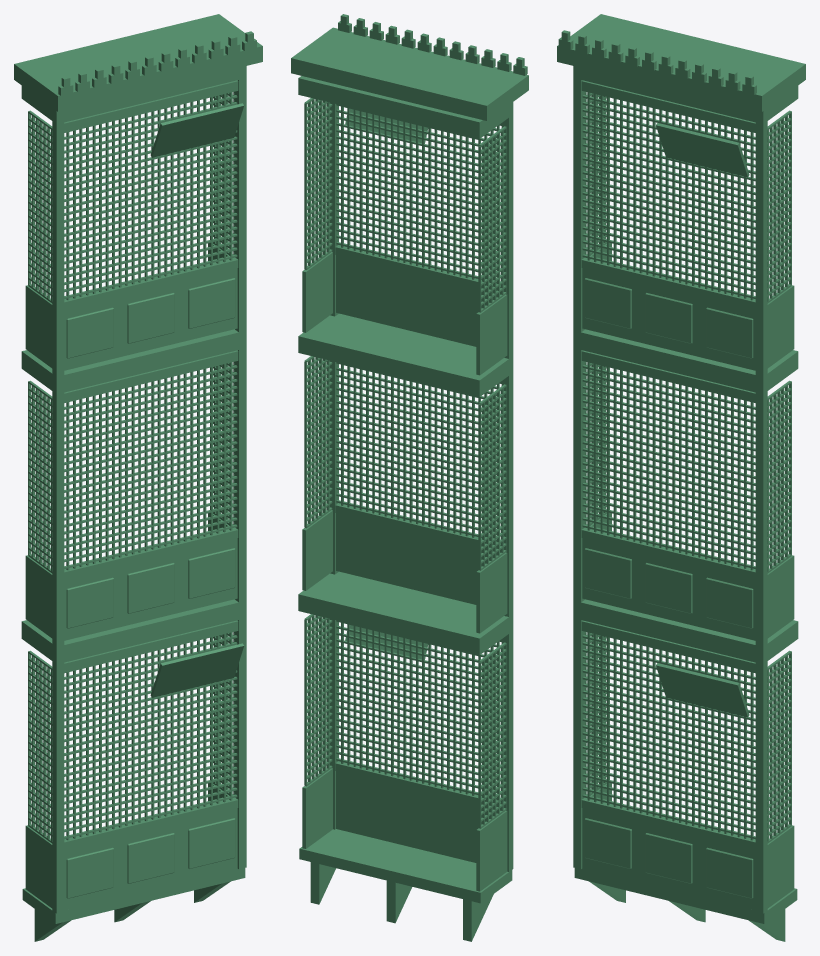
Rendered from SM_Roshan_3F.fbx.
3 renders of one model, left to right at view 1: azimuth 30°, elevation 25°; view 2: azimuth 150°, elevation 25°; view 3: azimuth 330°, elevation 25°, orthographic. The views are drawn at different scales.
Visible parts, largest first — view 1: SM_Roshan_3F; view 2: SM_Roshan_3F; view 3: SM_Roshan_3F.
Boxes of the visible parts, box(x1,y1,x2,y2) form: SM_Roshan_3F: box(14, 14, 262, 941); SM_Roshan_3F: box(291, 14, 528, 941); SM_Roshan_3F: box(557, 14, 805, 941).
Size of the model in its own units: 270 by 1129 by 106.
